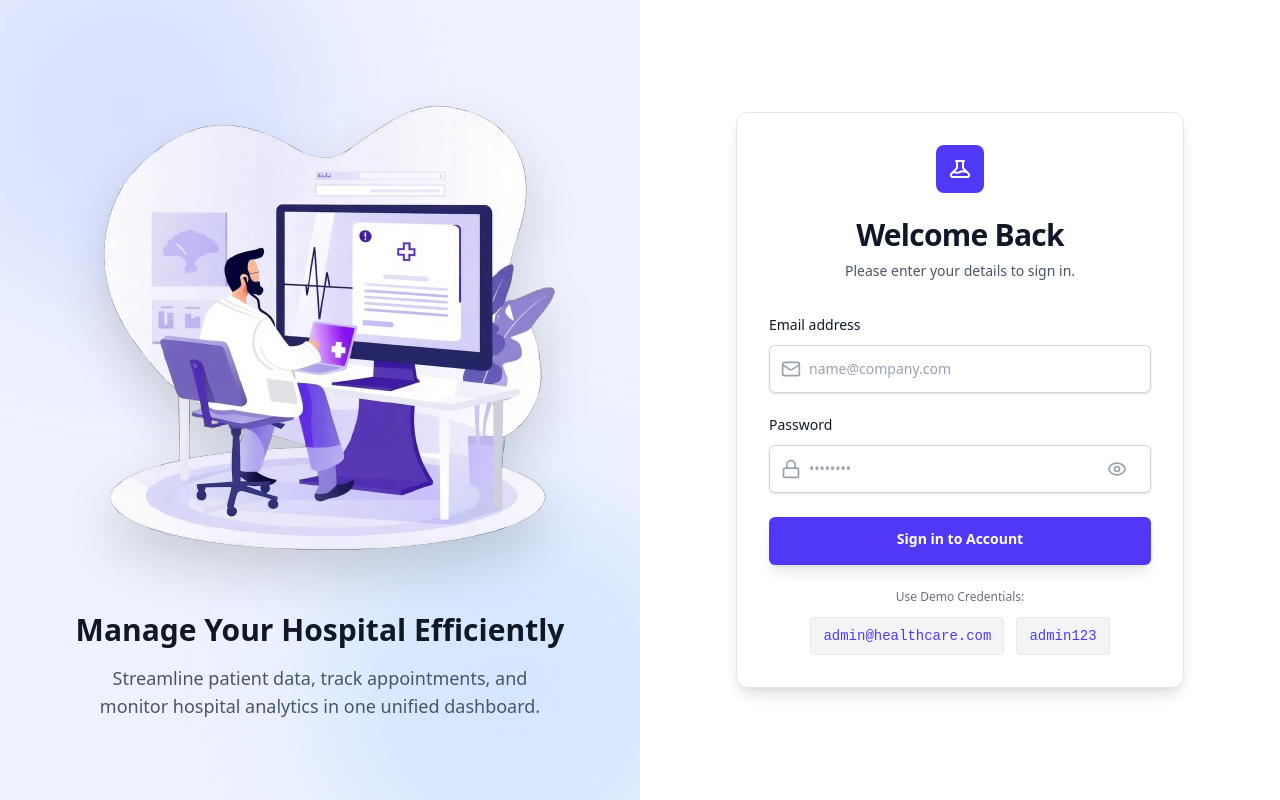
Test case: Login Page › Email Validation › shows error for invalid email format
Clear the input and type invalid email
Type "invalidemail" into the field labelled "Email address".
click(960, 369); type("invalidemail")  # box [769,345,1151,393]
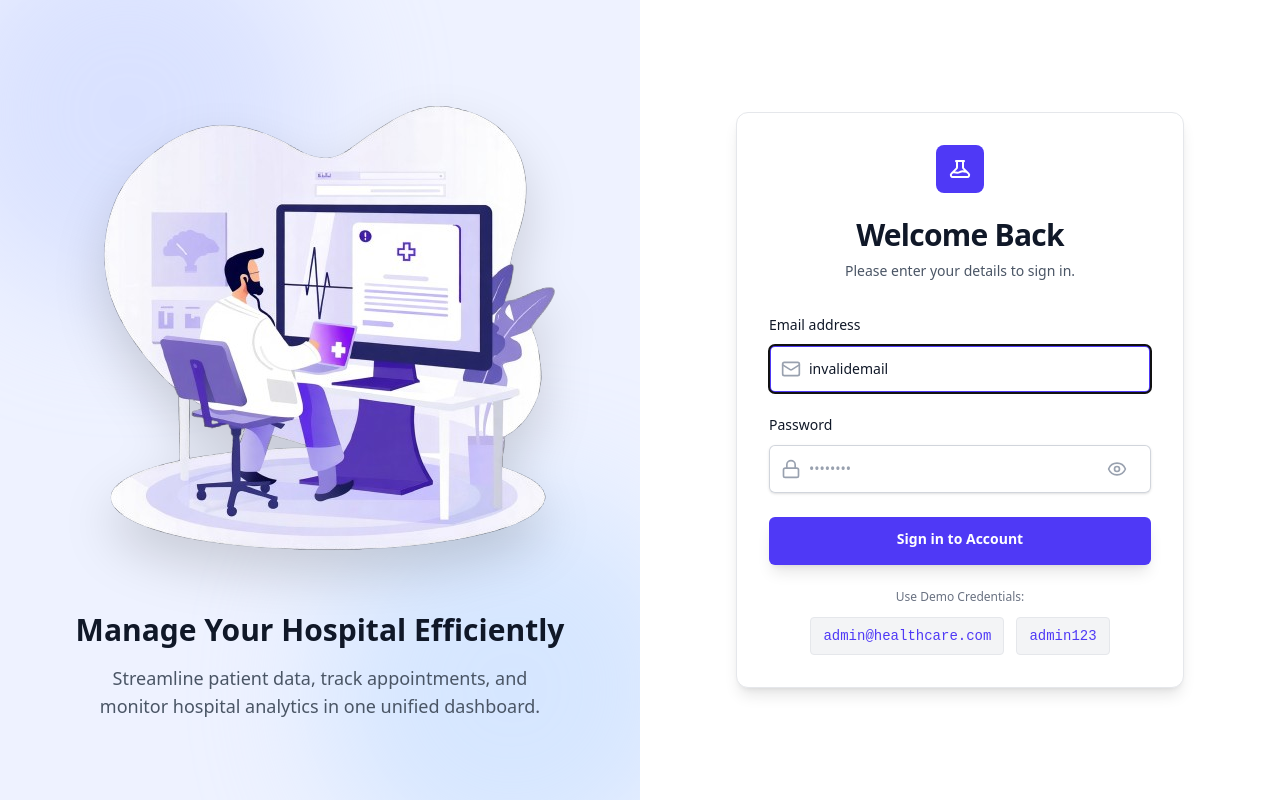
Blur to trigger validation
Leave the field labelled "Email address", box [769,345,1151,393]
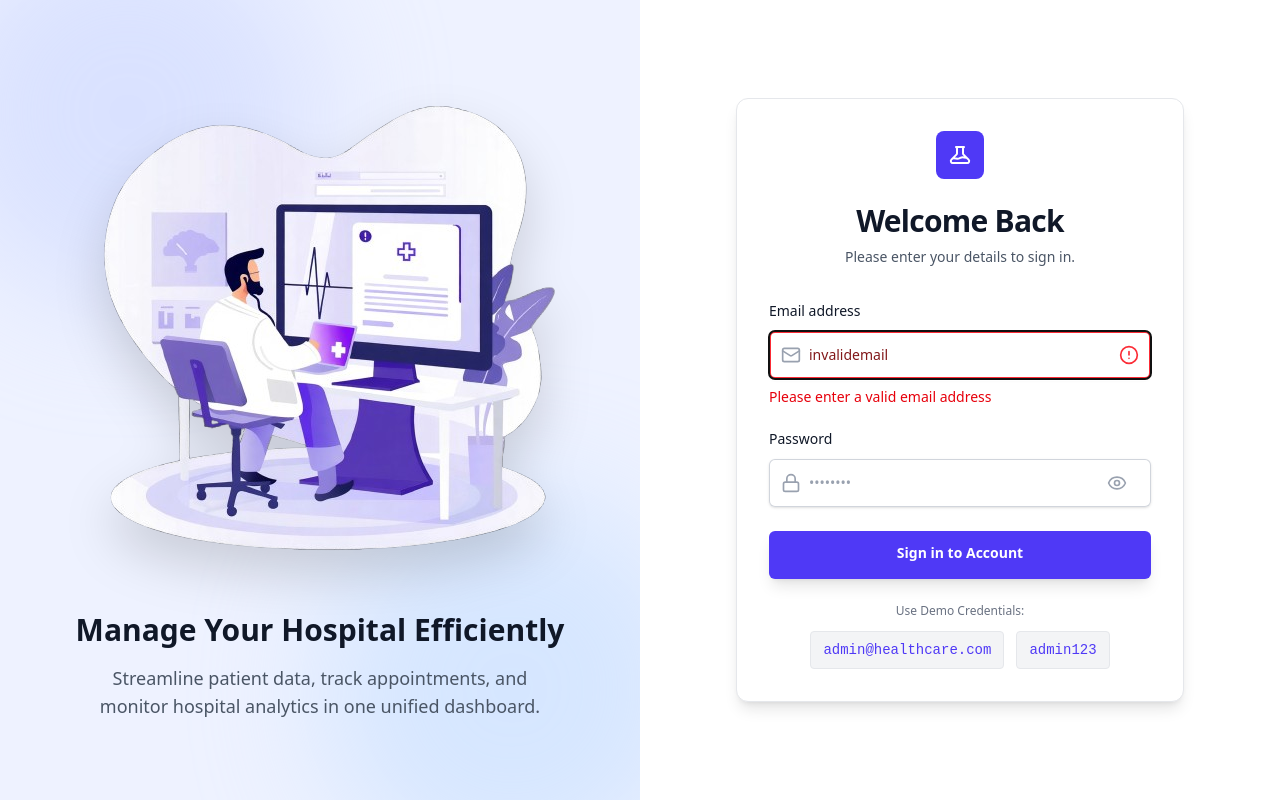
Now the text "Please enter a valid email address" is shown, box [769,387,992,406]
